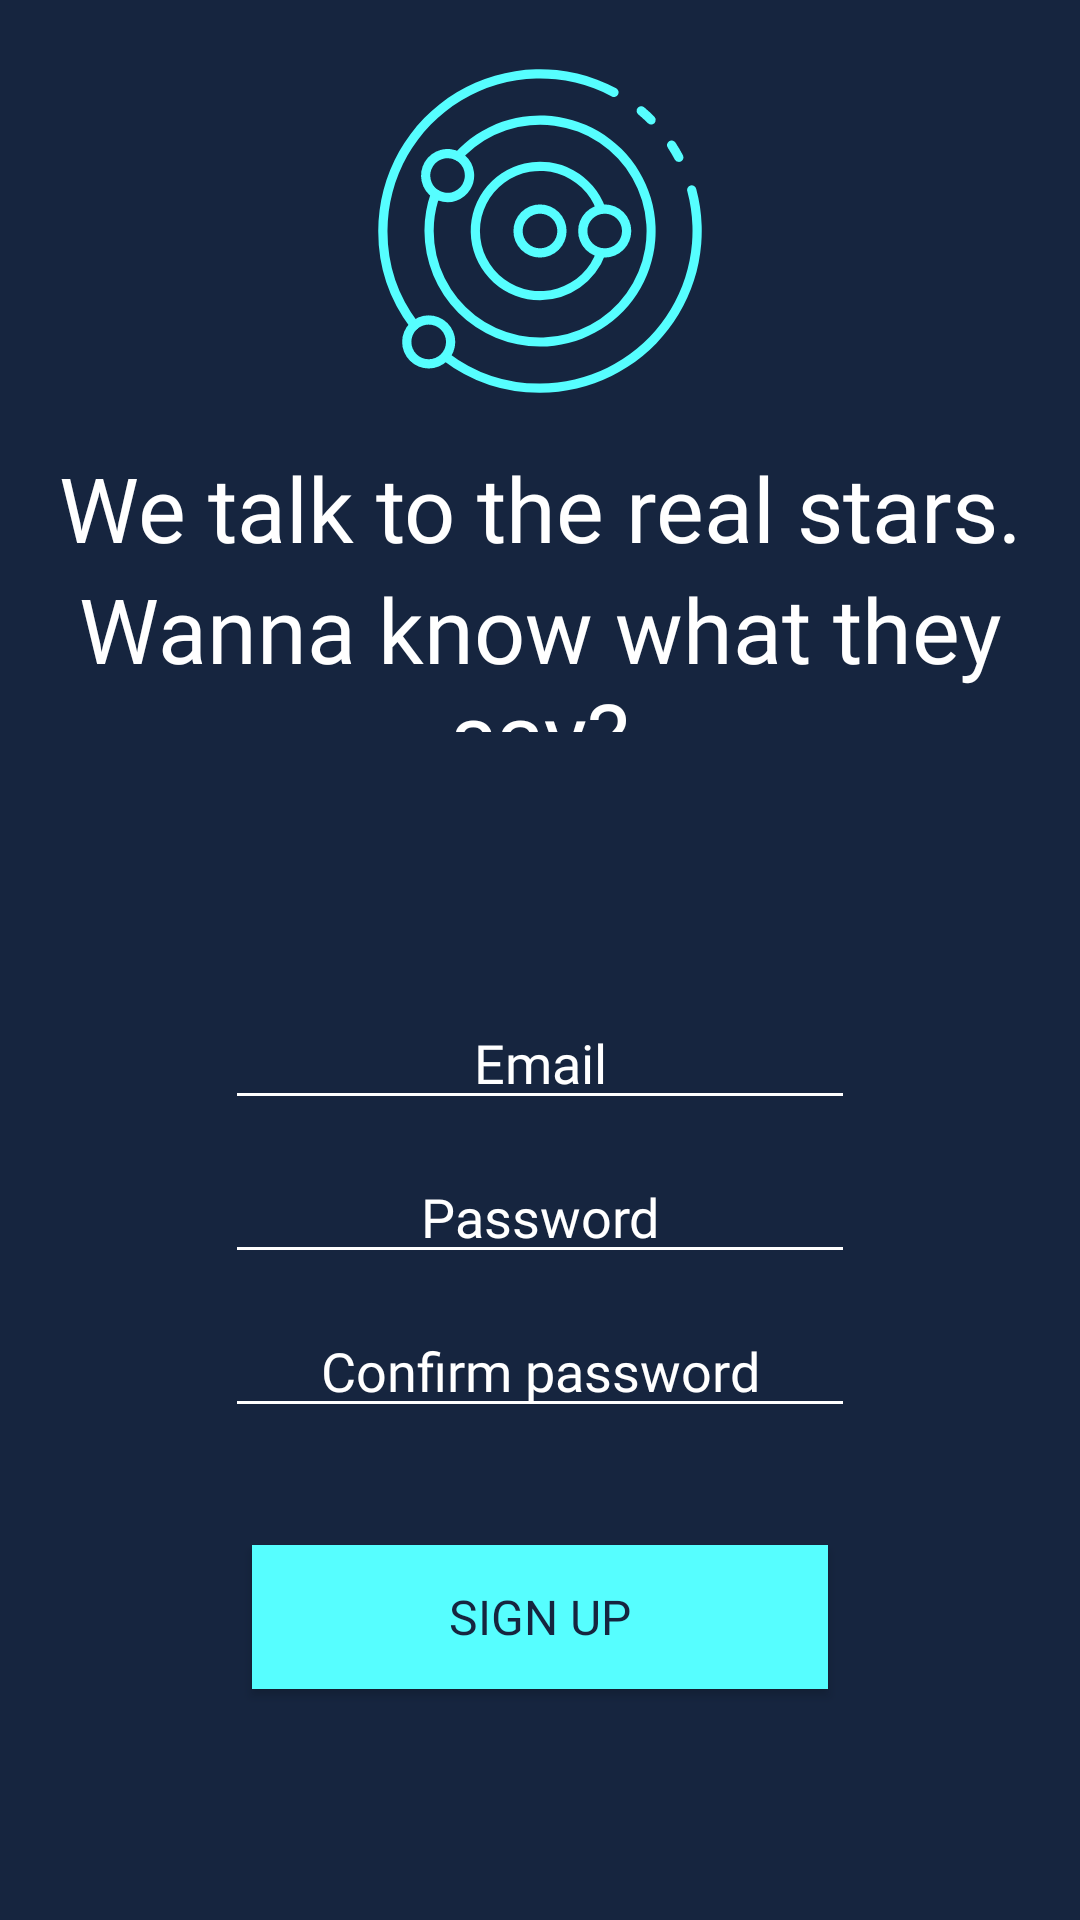

Screen size 1080 x 1920. Icon name, then its box in pixels as [x1, y1, x2, y2]:
orbit: [378, 69, 702, 393]
